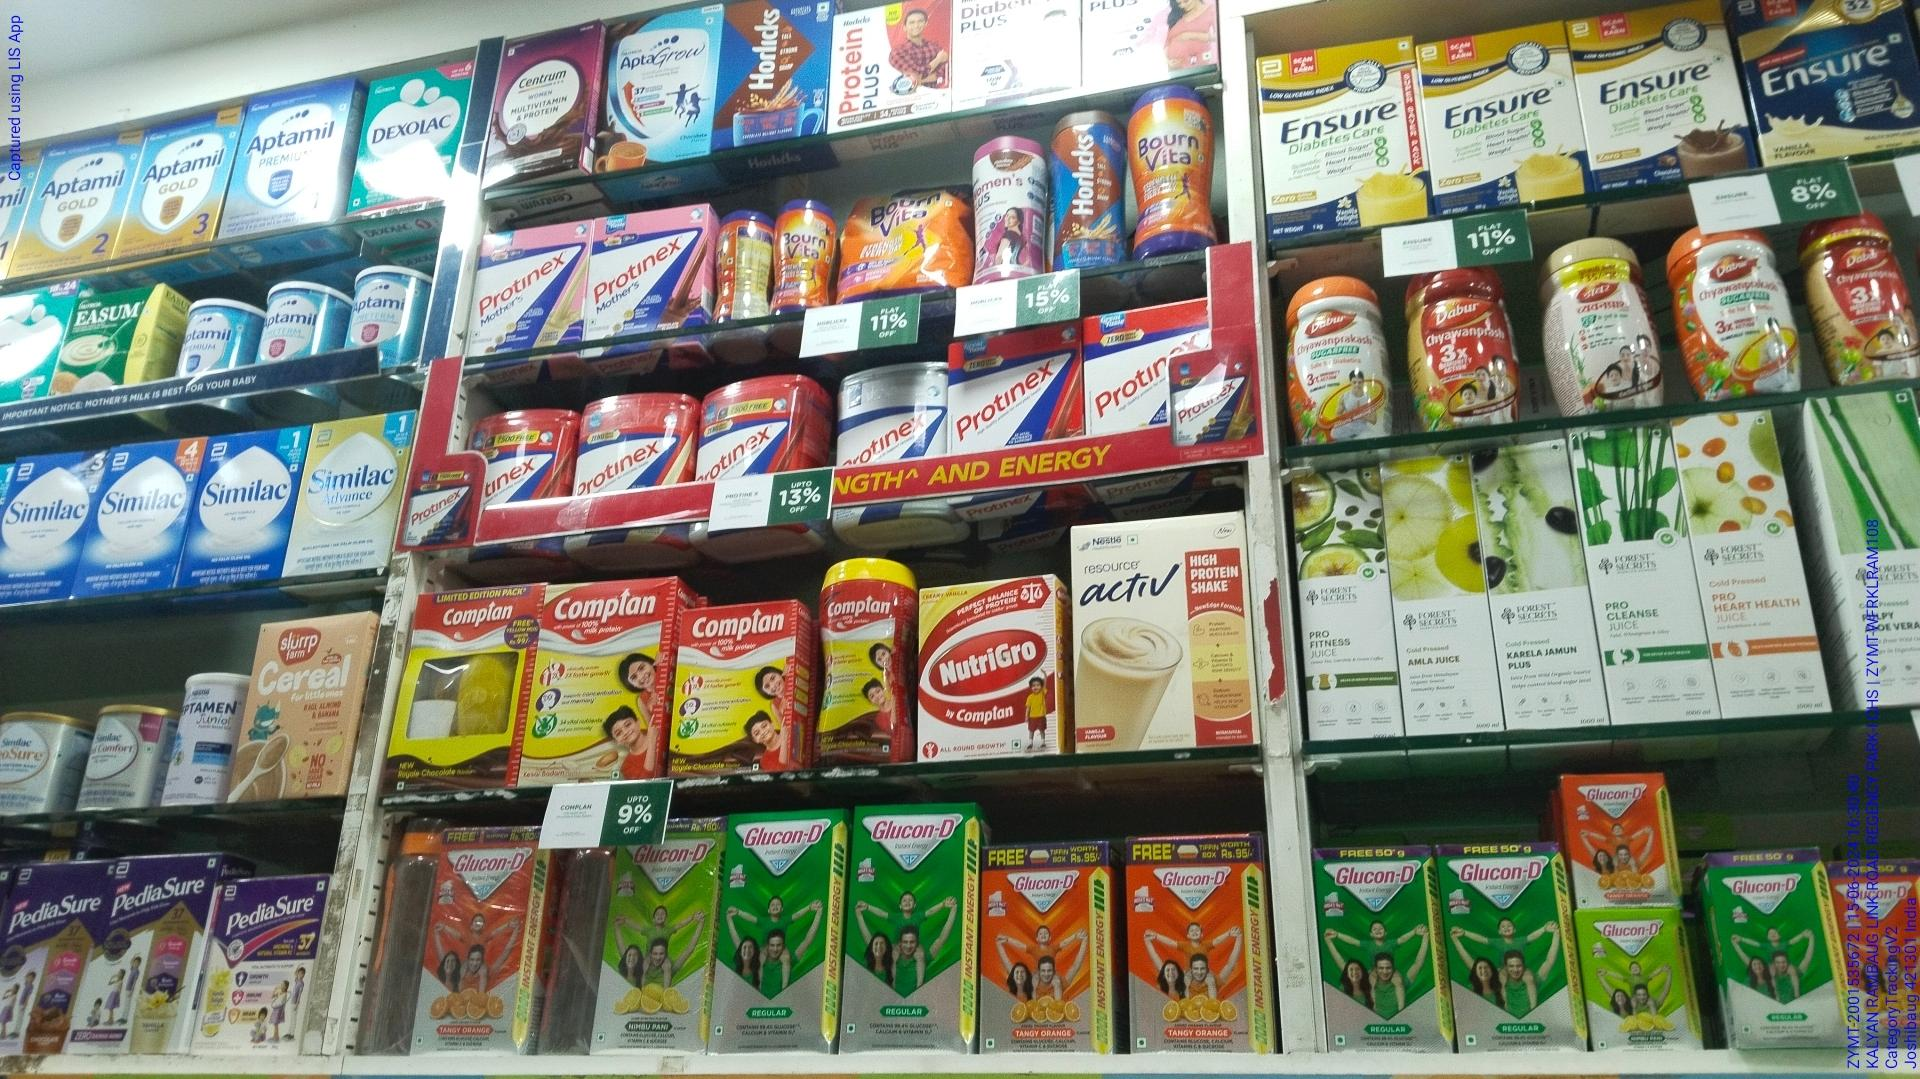BOURN_VITA_200_G_JAR: (773, 200, 835, 313)
BOURN_VITA_500_G_JAR: (1129, 80, 1218, 255)
BOURN_VITA_500_G_POUCH: (840, 186, 971, 290)
COMPLAN_CHOCOLATE_500_GMS_JAR: (818, 554, 903, 762)
COMPLAN_CHOCOLATE_500_GMS_PACK: (671, 599, 799, 774)
COMPLAN_KESAR_BADAM_500_GMS_PACK: (522, 583, 670, 785)
HORLICK_CHOCOLATE_500_G_JAR: (1048, 109, 1125, 265)
PEDIASURE_VANILLA_500_G_PACK: (84, 863, 194, 1051)
